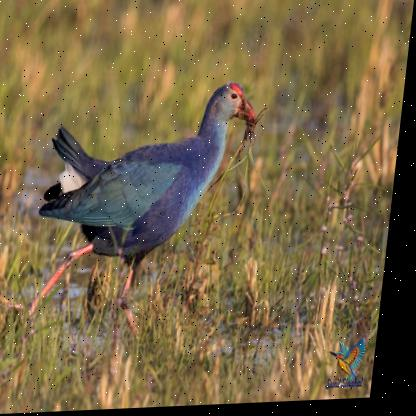Burung: (27, 81, 264, 327)
